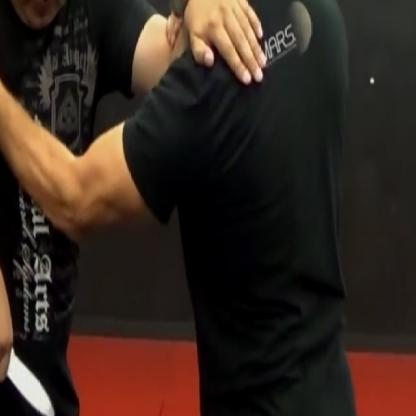knife: (0, 290, 60, 415)
